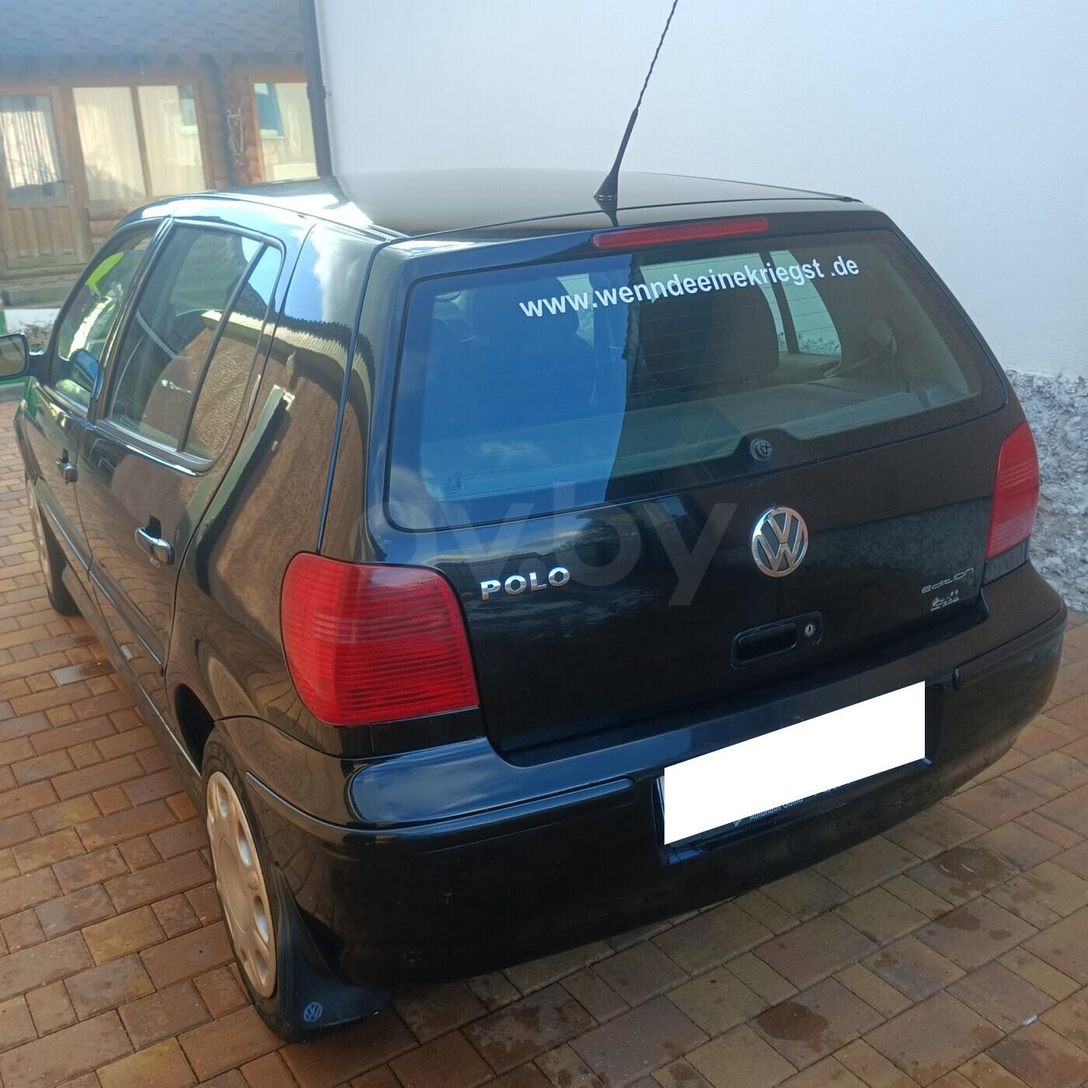Polo_2000-2002: (10, 156, 1069, 1032)
